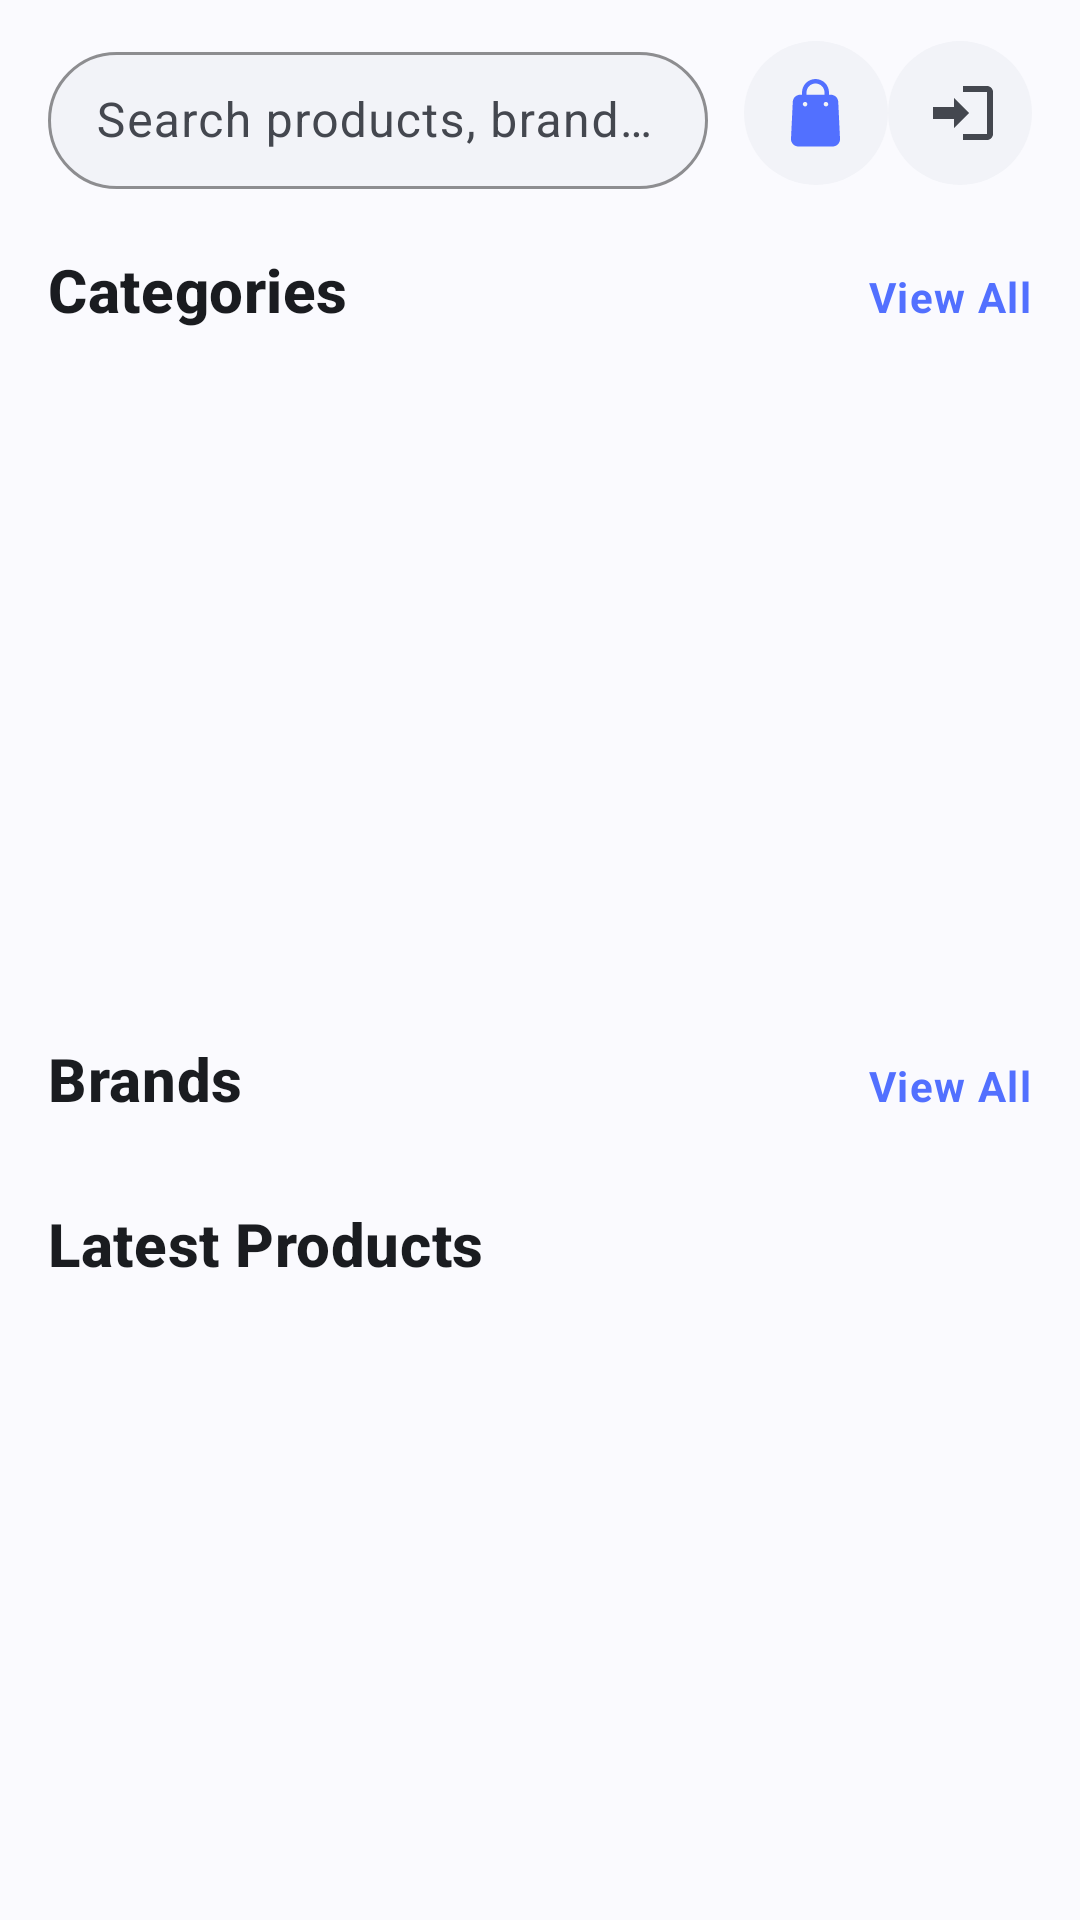

Screen size 1080x1920. Icon name, then its box in pixels as (x1, y1, x2, y2):
Shopping Cart: (791, 79, 840, 147)
